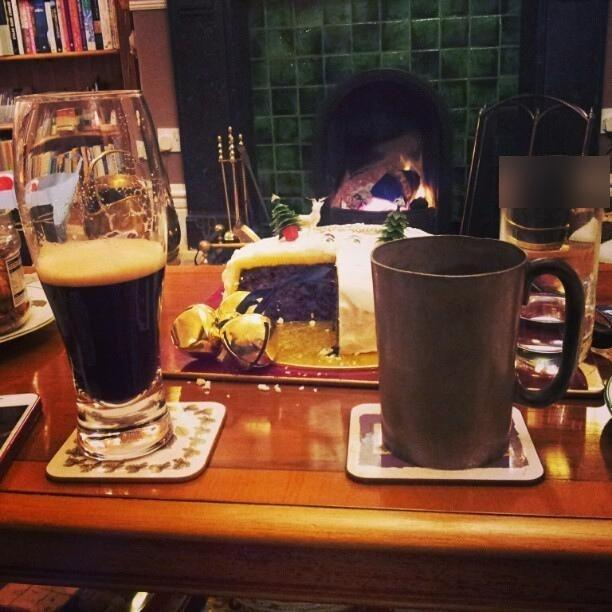cup-handle: (371, 233, 589, 470)
glass-normal: (14, 85, 179, 462)
